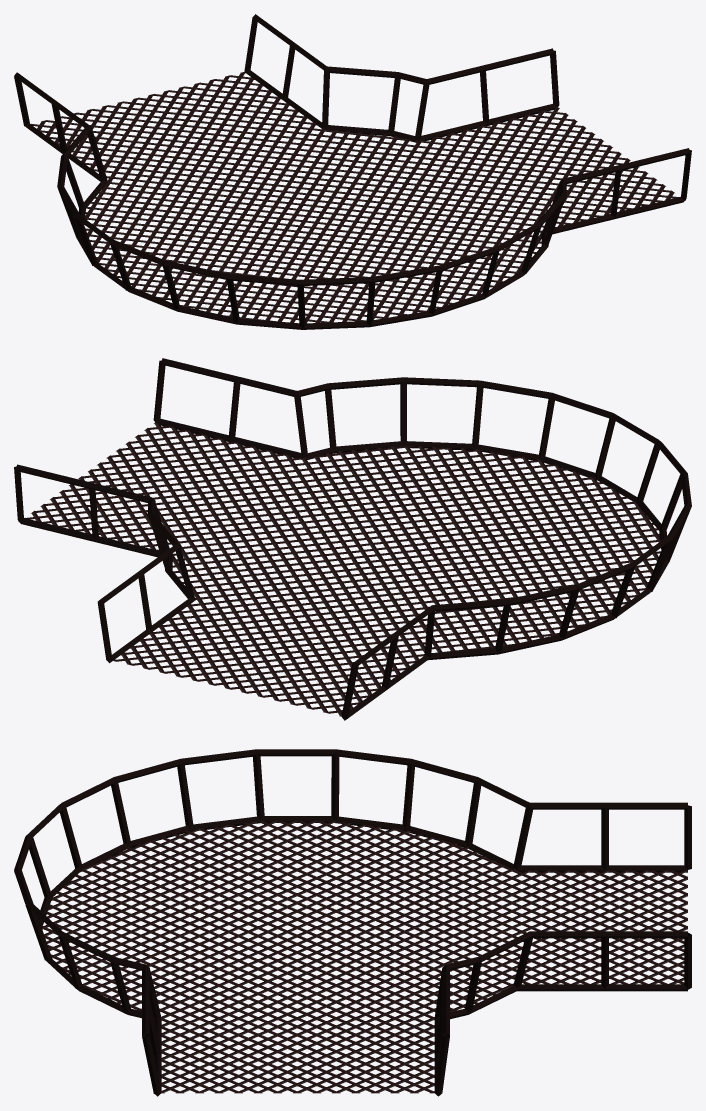
Rendered from Platform_R_L.fbx.
The picture shows the model from 3 angles, top to bottom: view 1: azimuth 30°, elevation 25°; view 2: azimuth 150°, elevation 25°; view 3: azimuth 270°, elevation 25°; orthographic projection. The views are drawn at different scales.
Parts seen in each view (by area): view 1: Plat_RL, Plat_RL_Railing; view 2: Plat_RL, Plat_RL_Railing; view 3: Plat_RL, Plat_RL_Railing.
Boxes of the visible parts, x1,y1,x2,y2 form: Plat_RL: (30, 72, 678, 323); Plat_RL_Railing: (14, 14, 691, 329); Plat_RL: (25, 422, 660, 716); Plat_RL_Railing: (14, 358, 691, 720); Plat_RL: (42, 821, 687, 1093); Plat_RL_Railing: (14, 749, 691, 1096).
Bounding box in the file's own units: 130 × 13.67 × 130.
2 materials, 1 textured.
